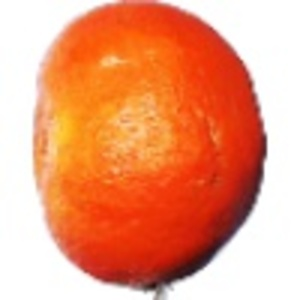tangerina: (21, 1, 269, 300)
